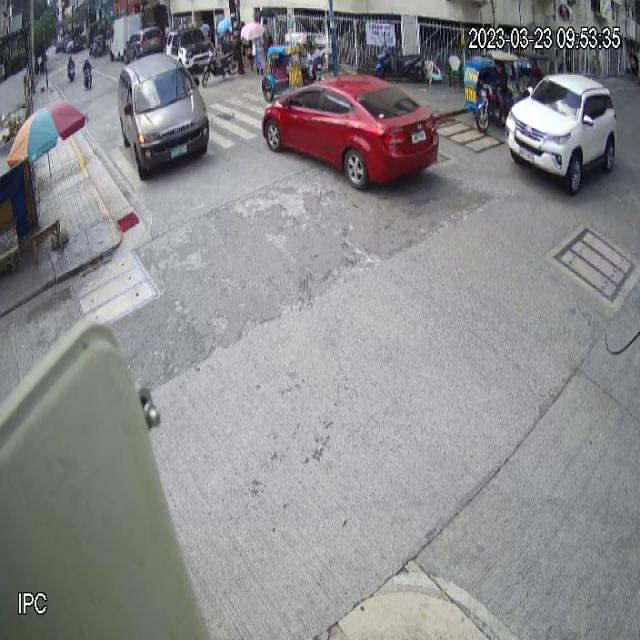Car: (261, 74, 440, 190), (506, 73, 617, 193), (117, 52, 209, 180)
